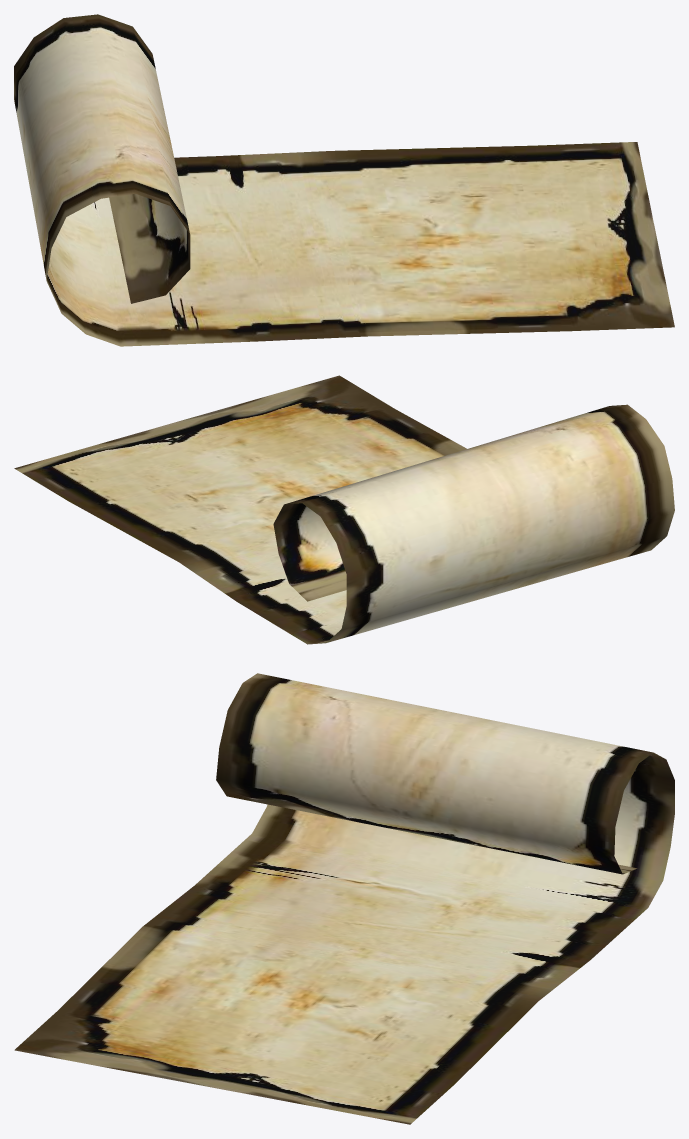
The model's file is Paper.glb.
3 renders of one model, top to bottom at view 1: azimuth 30°, elevation 25°; view 2: azimuth 150°, elevation 25°; view 3: azimuth 270°, elevation 25°, orthographic. The views are drawn at different scales.
Parts seen in each view (by area): view 1: huitugou_7019_10; view 2: huitugou_7019_10; view 3: huitugou_7019_10.
Boxes of the visible parts, box(x1,y1,x2,y2) form: huitugou_7019_10: box(14, 14, 674, 346); huitugou_7019_10: box(14, 375, 674, 644); huitugou_7019_10: box(14, 673, 674, 1124).
Bounding box in the file's own units: 0.5459 × 0.1234 × 0.4716.
Materials: 1 (1 with a texture image).
